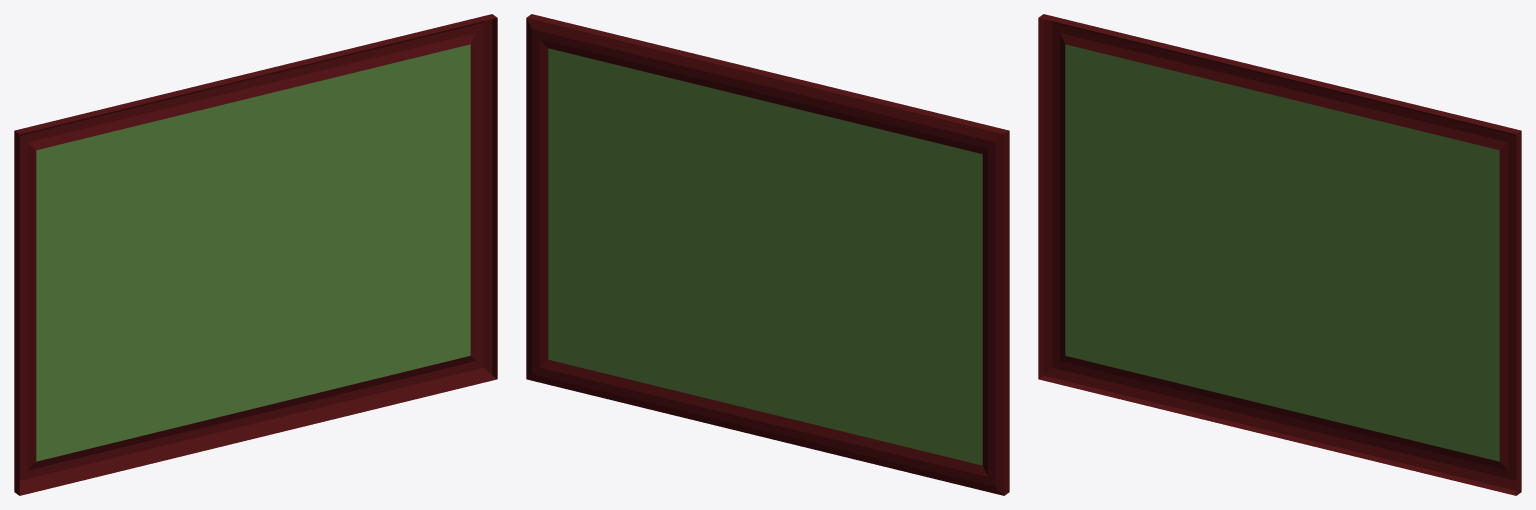
File: Mirror 01.FBX
3 views of the same model, side by side, from view 1: azimuth 30°, elevation 25°; view 2: azimuth 150°, elevation 25°; view 3: azimuth 330°, elevation 25° (orthographic).
Parts seen in each view (by area): view 1: Big picture; view 2: Big picture; view 3: Big picture.
Boxes of the visible parts, x1,y1,x2,y2 form: Big picture: (14,14,497,495); Big picture: (526,14,1009,495); Big picture: (1038,14,1521,495).
Size of the model in its own units: 72.85 by 52.67 by 1.83.
